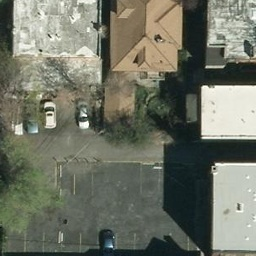car: (100, 227, 115, 256), (75, 101, 90, 129), (41, 101, 56, 129)
